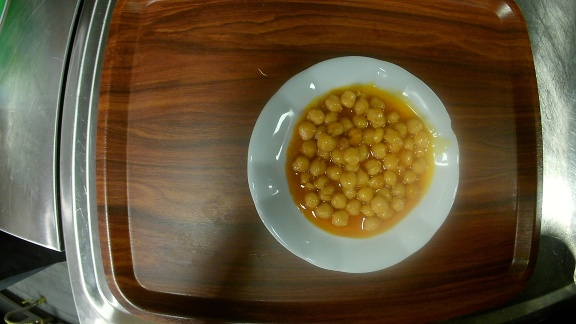sulunohut: (245, 54, 461, 277)
